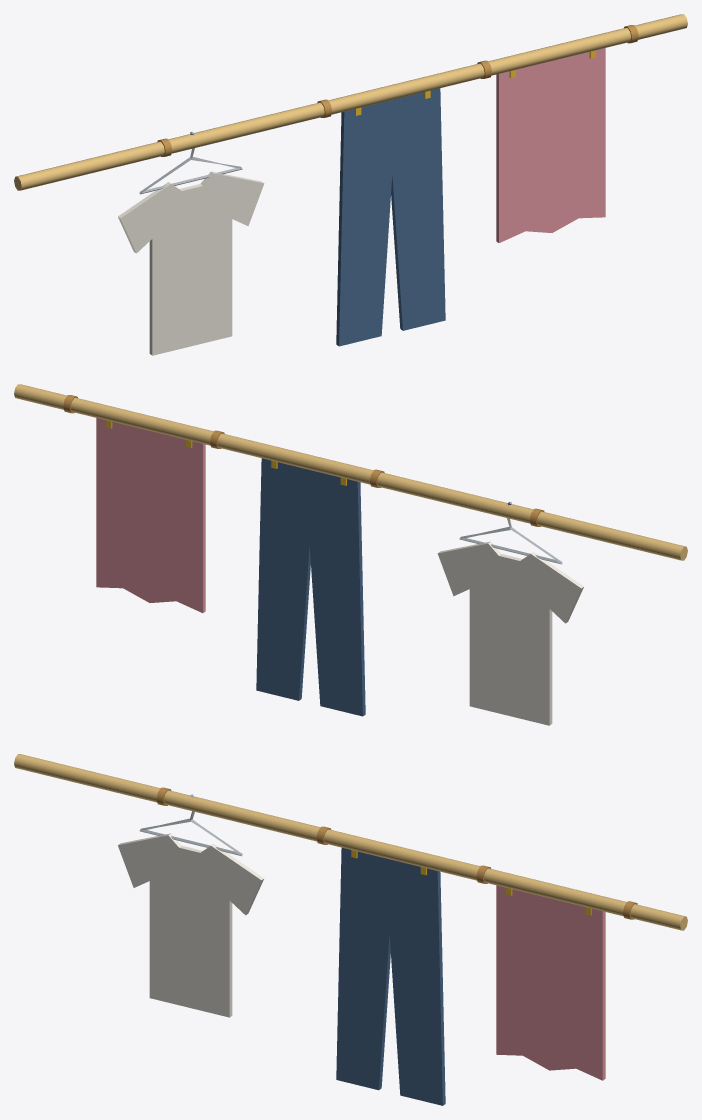
The model's file is laundry_pole_bar.glb.
The picture shows the model from 3 angles, top to bottom: view 1: azimuth 30°, elevation 25°; view 2: azimuth 150°, elevation 25°; view 3: azimuth 330°, elevation 25°; orthographic projection.
Visible parts, largest first — view 1: laundry_pole_bar; view 2: laundry_pole_bar; view 3: laundry_pole_bar.
Part boxes in pixels (x1,y1,x2,y2): laundry_pole_bar: [14, 14, 687, 355]; laundry_pole_bar: [14, 384, 687, 725]; laundry_pole_bar: [14, 754, 687, 1105].
Bounding box in the file's own units: 2.5 × 0.8942 × 0.06.
